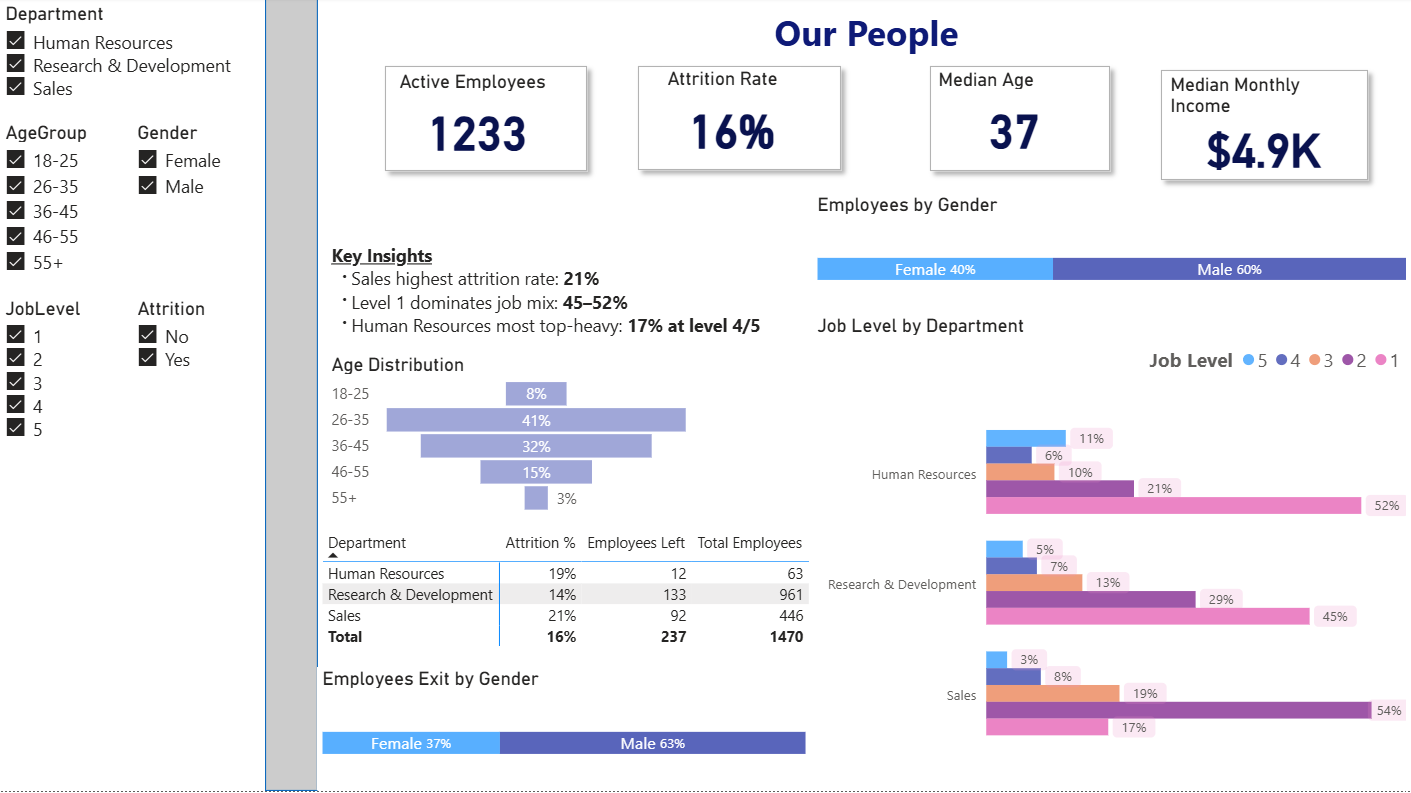

Layout of this report page (visuals, bound fields, positions):
{"tool":"powerbi","page":{"name":"Our People","canvas":[1280,720],"ordinal":1},"visuals":[{"type":"funnel","title":"Age Distribution","fields":{"Y":["Divide(CountNonNull(Table 1 (HR_Analytics).AgeGroup), ScopedEval(CountNonNull(Table 1 (HR_Analytics).AgeGroup), []))"],"Category":["Table 1 (HR_Analytics).AgeGroup"]},"box":[295.6,323,336.2,149.4],"z":0},{"type":"barChart","title":"Employees by Gender","fields":{"Series":["Table 1 (HR_Analytics).Gender"],"Y":["CountNonNull(Table 1 (HR_Analytics).Gender)"]},"box":[736.1,178,543.9,112.1],"z":1000},{"type":"pivotTable","fields":{"Rows":["Table 1 (HR_Analytics).Department"],"Values":["Table 1 (HR_Analytics).Attrition %","Table 1 (HR_Analytics).Employees Left","Table 1 (HR_Analytics).Total Employees"]},"box":[287.9,480.1,463.7,127.5],"z":2000},{"type":"shape","box":[340.1,53.5,201.3,113.4],"z":3000},{"type":"card","title":"Active Employees","fields":{"Values":["Table 1 (HR_Analytics).Active Employees"]},"box":[357.3,66,150.5,86.8],"z":4000},{"type":"clusteredBarChart","title":"Job Level by Department ","fields":{"Series":["Table 1 (HR_Analytics).JobLevel"],"Category":["Table 1 (HR_Analytics).Department"],"Y":["Table 1 (HR_Analytics).Job Level % by Department"]},"box":[736.1,287.9,543.9,431.8],"z":5000},{"type":"shape","box":[240,0,48,720],"z":6000},{"type":"listSlicer","fields":{"Values":["Table 1 (HR_Analytics).Department"]},"box":[0,0,240,240],"z":7000},{"type":"listSlicer","fields":{"Values":["Table 1 (HR_Analytics).Gender"]},"box":[120,112,120,264],"z":8000},{"type":"listSlicer","fields":{"Values":["Table 1 (HR_Analytics).AgeGroup"]},"box":[0,112,120,264],"z":9000},{"type":"listSlicer","fields":{"Values":["Table 1 (HR_Analytics).JobLevel"]},"box":[0,272,120,248],"z":10000},{"type":"listSlicer","fields":{"Values":["Table 1 (HR_Analytics).Attrition"]},"box":[120,272,120,248],"z":11000},{"type":"shape","box":[834.3,53.5,181.4,113.4],"z":12000},{"type":"shape","box":[569.5,53.5,202.2,112.4],"z":13000},{"type":"card","title":"Median Age","fields":{"Values":["Avg(Table 1 (HR_Analytics).Age)"]},"box":[846,64.4,146.9,88],"z":14000},{"type":"card","title":"Attrition Rate","fields":{"Values":["Table 1 (HR_Analytics).Attrition %"]},"box":[600.1,63.8,126.4,89],"z":15000},{"type":"shape","box":[1043.7,57.1,205.8,117.9],"z":16000},{"type":"card","title":"Median Monthly Income","fields":{"Values":["Median(Table 1 (HR_Analytics).MonthlyIncome)"]},"box":[1056.4,68.9,178.6,93.4],"z":17000},{"type":"barChart","fields":{"Y":["Table 1 (HR_Analytics).Employees Left"],"Series":["Table 1 (HR_Analytics).Gender"]},"box":[287.9,607.6,448.3,112.1],"z":18000},{"type":"textbox","box":[295.6,218.6,436.2,97.8],"z":19000},{"type":"textbox","box":[697.7,4.4,190.1,54.9],"z":20000}]}

Visuals, with their boxes in screenshot pixels (x1, y1, x2, y2), scaled from the page's 1280x720 canvas onto the 1411x793 screenshot:
"Age Distribution" funnel: locate(326, 356, 696, 520)
"Employees by Gender" barChart: locate(811, 196, 1410, 320)
pivotTable - Table 1 (HR_Analytics).Department x Table 1 (HR_Analytics).Attrition %: locate(317, 529, 829, 669)
shape: locate(375, 59, 597, 184)
"Active Employees" card: locate(394, 73, 560, 168)
"Job Level by Department " clusteredBarChart: locate(811, 317, 1410, 792)
shape: locate(265, 0, 317, 792)
listSlicer - Table 1 (HR_Analytics).Department: locate(0, 0, 265, 264)
listSlicer - Table 1 (HR_Analytics).Gender: locate(132, 123, 265, 414)
listSlicer - Table 1 (HR_Analytics).AgeGroup: locate(0, 123, 132, 414)
listSlicer - Table 1 (HR_Analytics).JobLevel: locate(0, 300, 132, 573)
listSlicer - Table 1 (HR_Analytics).Attrition: locate(132, 300, 265, 573)
shape: locate(920, 59, 1120, 184)
shape: locate(628, 59, 851, 183)
"Median Age" card: locate(933, 71, 1095, 168)
"Attrition Rate" card: locate(662, 70, 801, 168)
shape: locate(1151, 63, 1377, 193)
"Median Monthly Income" card: locate(1165, 76, 1361, 179)
barChart - Table 1 (HR_Analytics).Employees Left x Table 1 (HR_Analytics).Gender: locate(317, 669, 812, 792)
textbox: locate(326, 241, 807, 348)
textbox: locate(769, 5, 979, 65)
